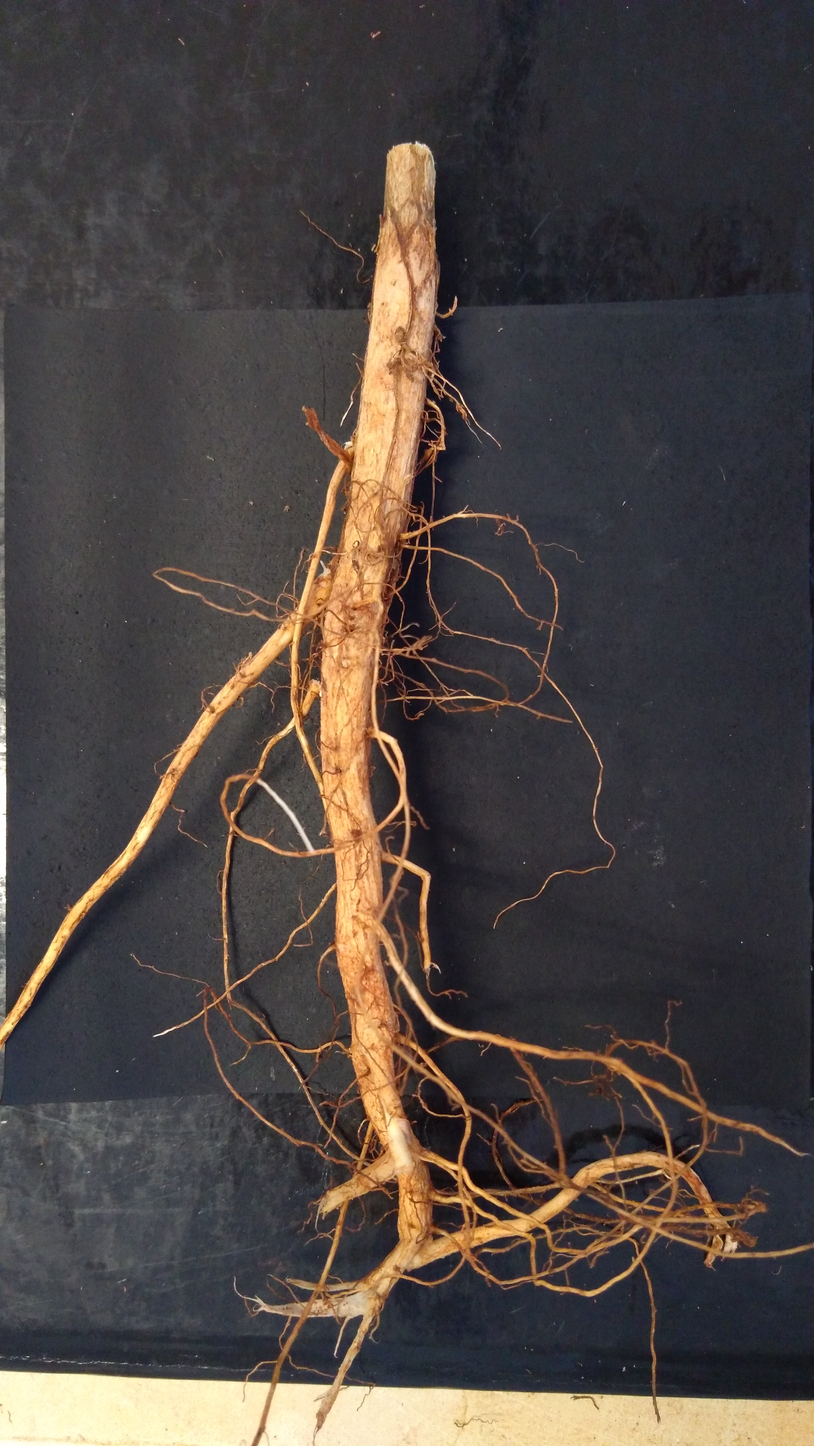nodule: (400, 347, 421, 371), (602, 1064, 619, 1082), (368, 765, 376, 778), (343, 441, 354, 450), (419, 1062, 428, 1068)
